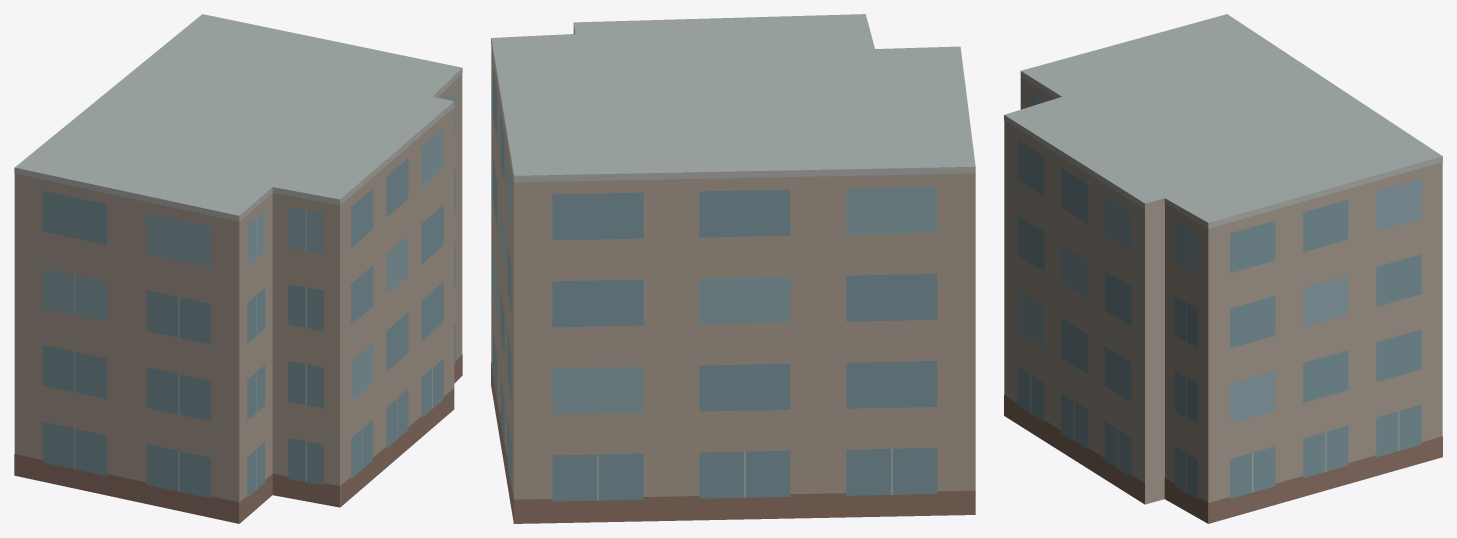
Rendered from survey-upis-32758665.glb.
3 views of the same model, side by side, from view 1: azimuth 30°, elevation 25°; view 2: azimuth 150°, elevation 25°; view 3: azimuth 270°, elevation 25° (orthographic). The views are drawn at different scales.
Parts seen in each view (by area): view 1: survey-upis-32758665.tmp; view 2: survey-upis-32758665.tmp; view 3: survey-upis-32758665.tmp.
Part boxes in pixels (x1,y1,x2,y2): survey-upis-32758665.tmp: (14,14,462,523); survey-upis-32758665.tmp: (491,14,975,523); survey-upis-32758665.tmp: (1004,14,1442,523).
Size of the model in its own units: 19.07 by 12.8 by 16.92.
